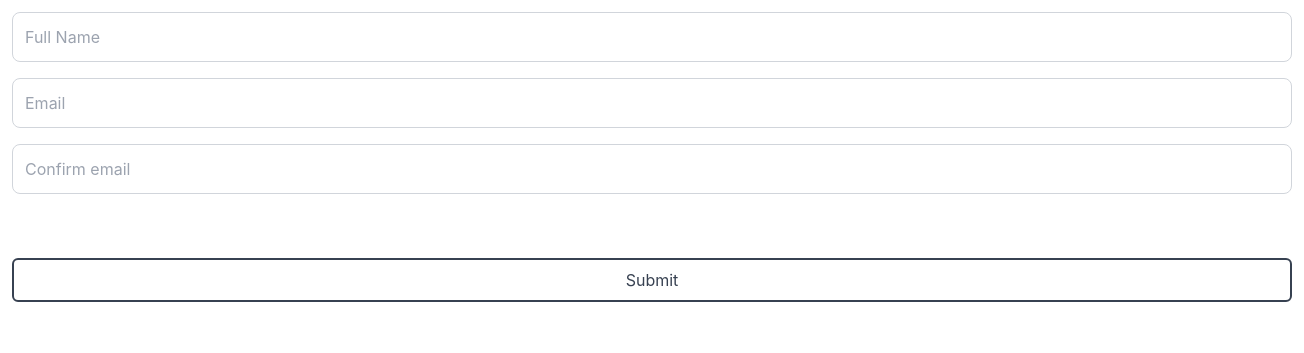
Test: UserEmailForm › should show an error if the email is empty
The image size is (1304, 353).
Type "Joe" into the field with placeholder "Full Name" at (652, 37), box [12,12,1292,62]
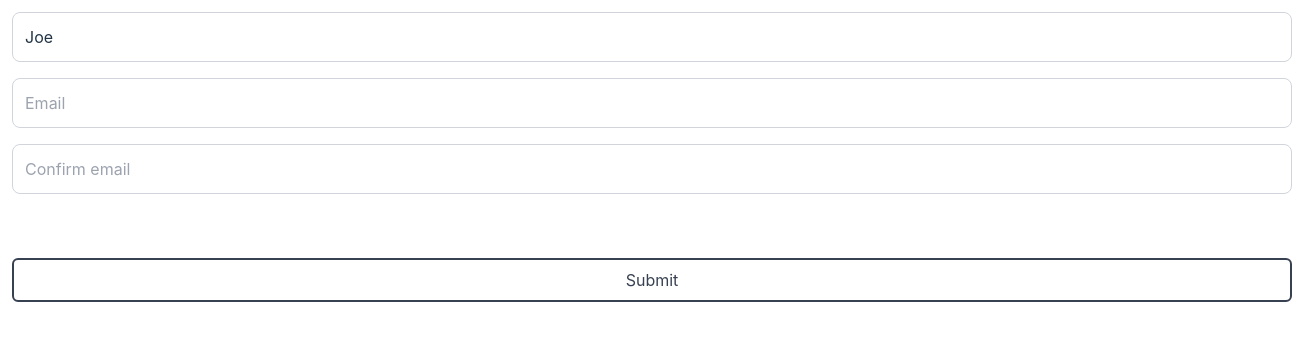
Click the button "Submit" at (652, 280), box [12,258,1292,302]
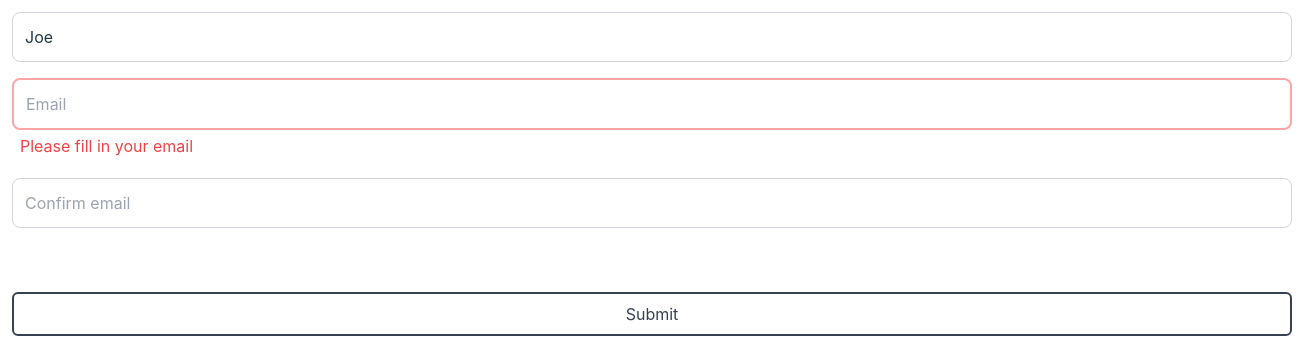
Expected: the text "Please fill in your email" is shown, [20,136,193,156]
